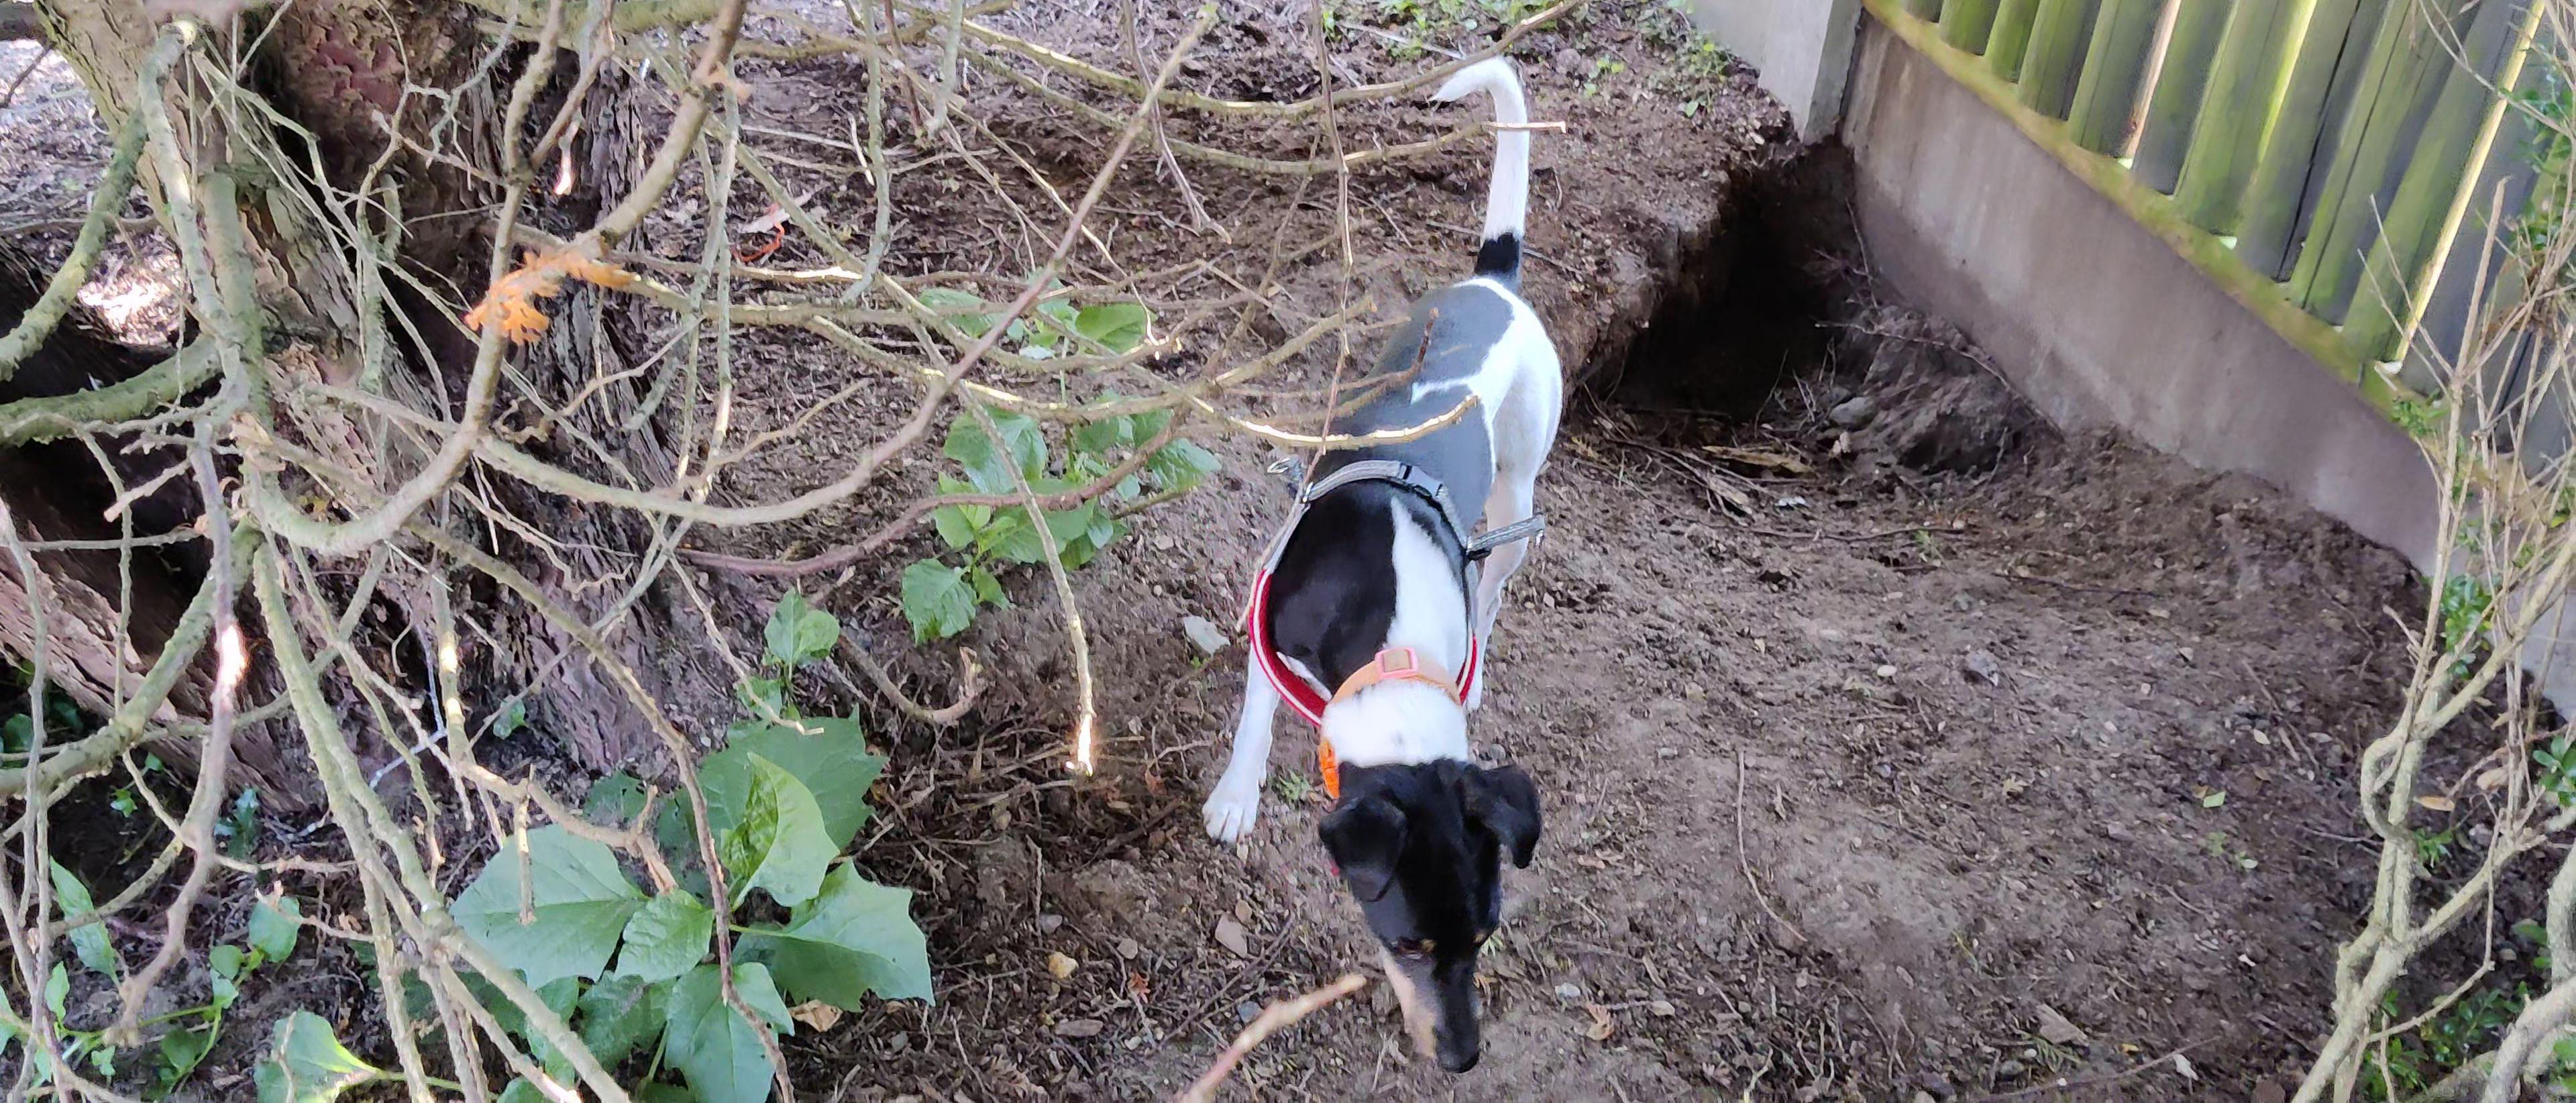Dog: (1178, 39, 1584, 1085)
